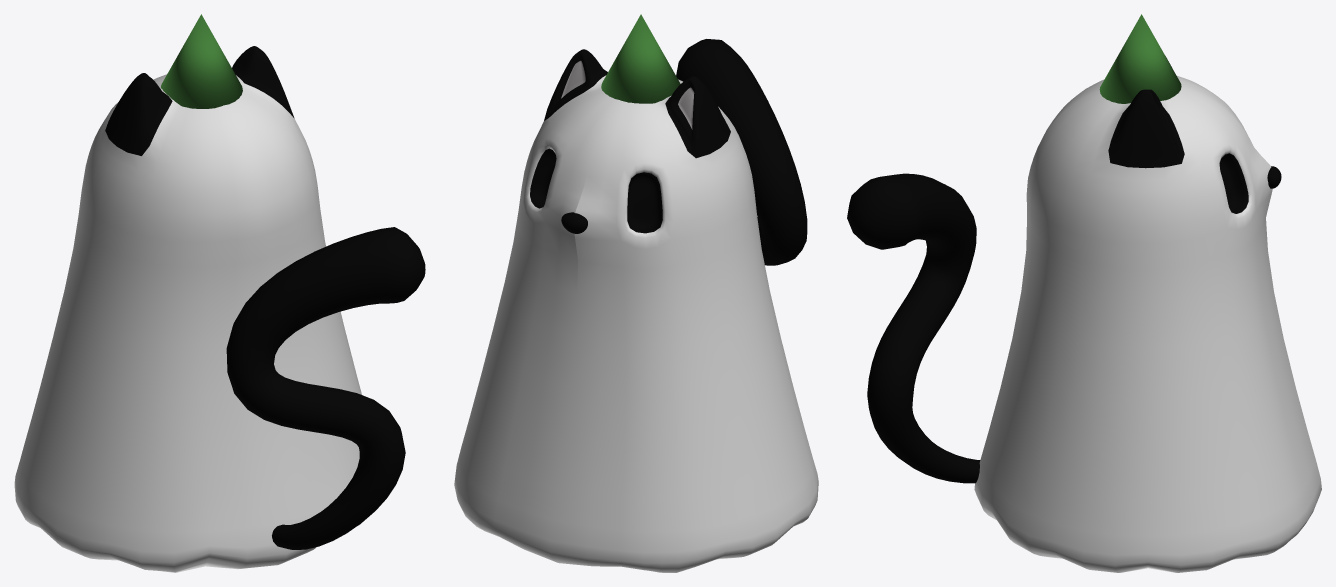
File: ghost_green.glb
3 renders of one model, left to right at view 1: azimuth 30°, elevation 25°; view 2: azimuth 150°, elevation 25°; view 3: azimuth 270°, elevation 25°, orthographic.
Parts seen in each view (by area): view 1: Sphere, BezierCurve, Cone; view 2: Sphere, BezierCurve, Cone; view 3: Sphere, BezierCurve, Cone.
Part boxes in pixels (x1,y1,x2,y2): Sphere: (14, 46, 361, 572); BezierCurve: (226, 227, 425, 549); Cone: (161, 14, 242, 108); Sphere: (454, 49, 818, 572); BezierCurve: (676, 39, 807, 265); Cone: (601, 14, 680, 103); Sphere: (974, 57, 1321, 572); BezierCurve: (847, 173, 980, 483); Cone: (1099, 14, 1181, 103).
Bounding box in the file's own units: 4.1 × 6.06 × 5.25.
